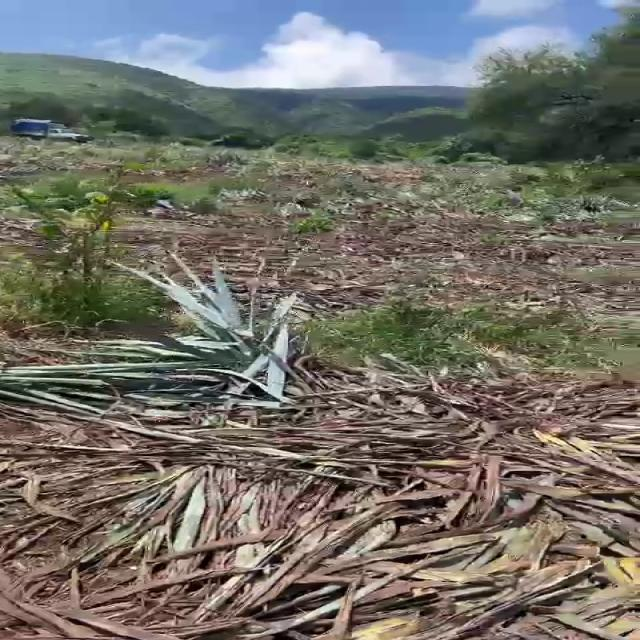agave: (103, 248, 298, 418)
